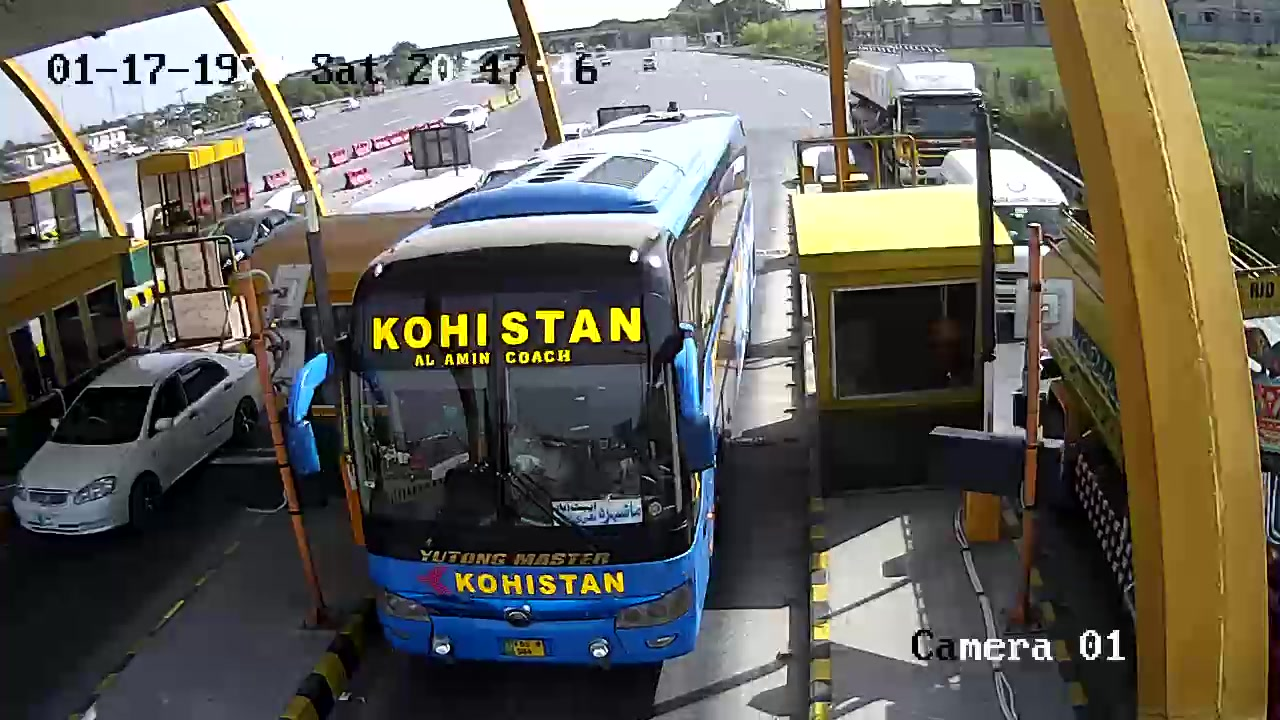F4: (360, 99, 760, 669)
